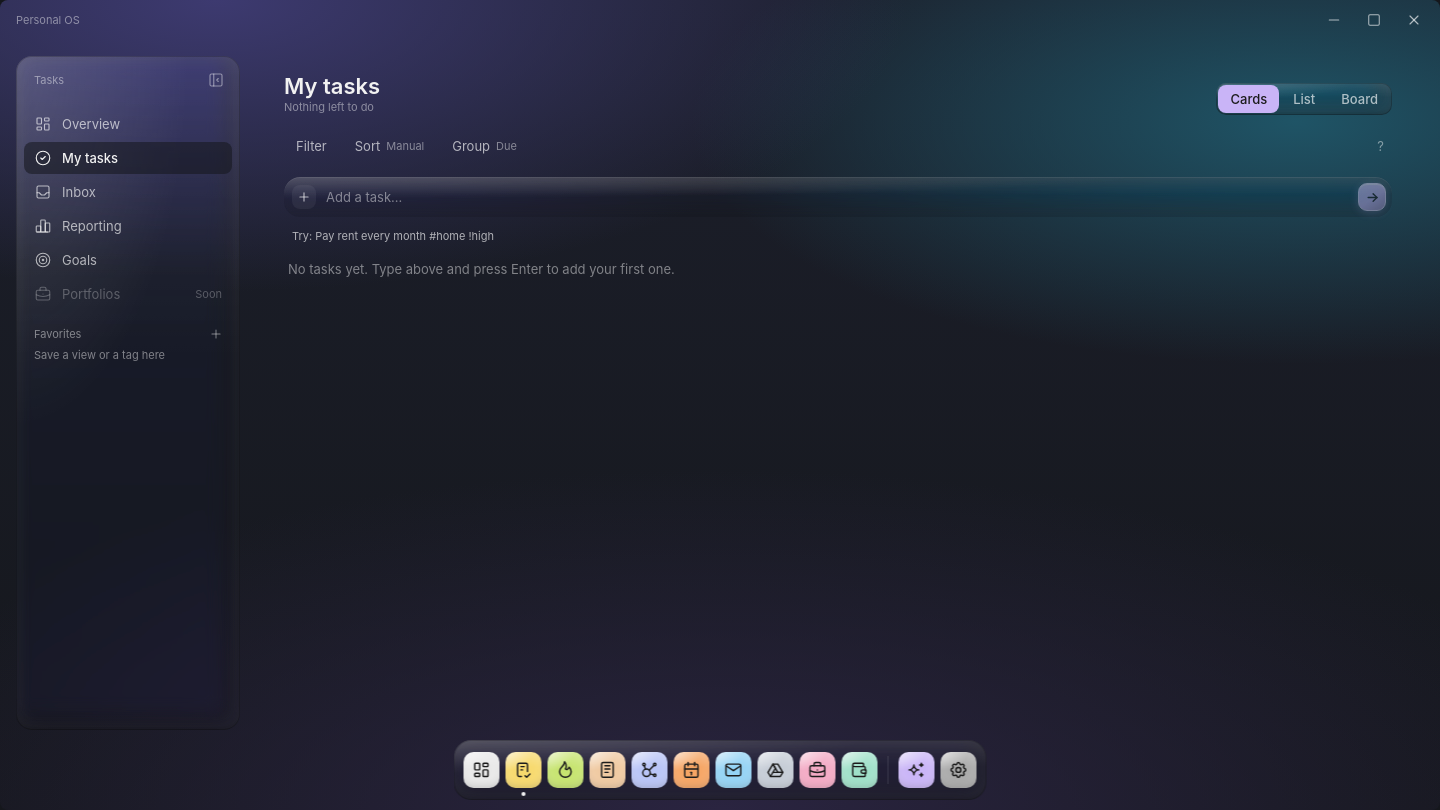
Test case: the quick add bar › shows the server’s message and gives the text back when it refuses
Check: the text "No tasks yet" is shown, box [288,261,675,277]
Type "x" into the field named "New task". click: (837, 197)
box: [326,177,1348,217]
Then press Enter
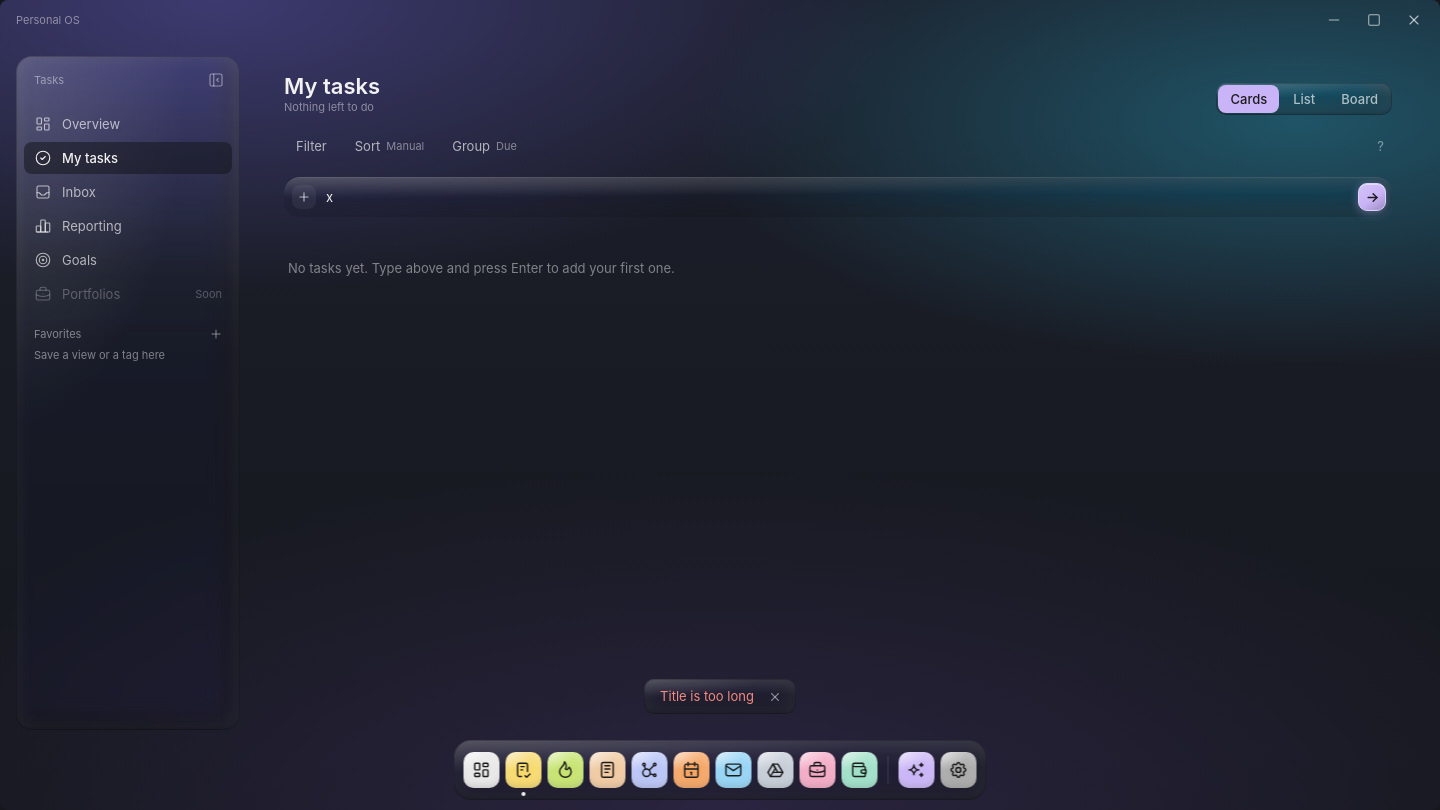
Check: the text "Title is too long" is shown, box [660,687,754,706]
